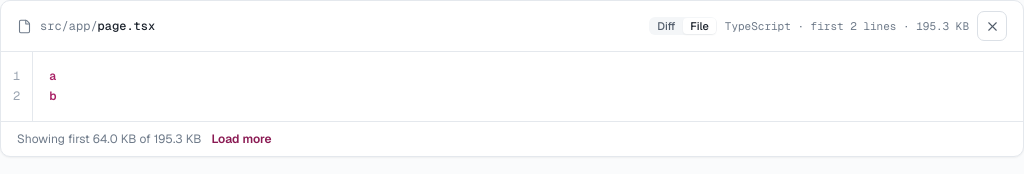
Test: SessionViewer sliced reads › keeps the slices it has when the next one fails, and offers the read again
Click the button "Load more".
click(242, 139)  # box [211, 131, 272, 147]
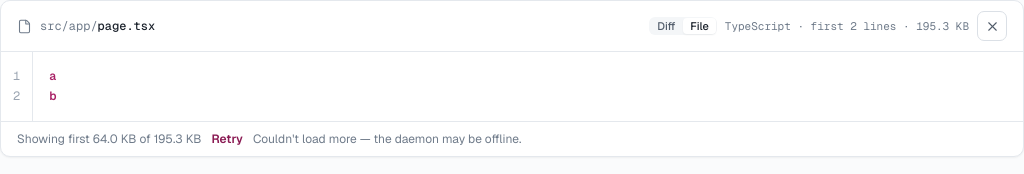
Expected: the button "Retry" is shown, [211, 131, 243, 147]
Now the text "Couldn't load more — the daemon may be offline." is shown, box [253, 131, 521, 147]
